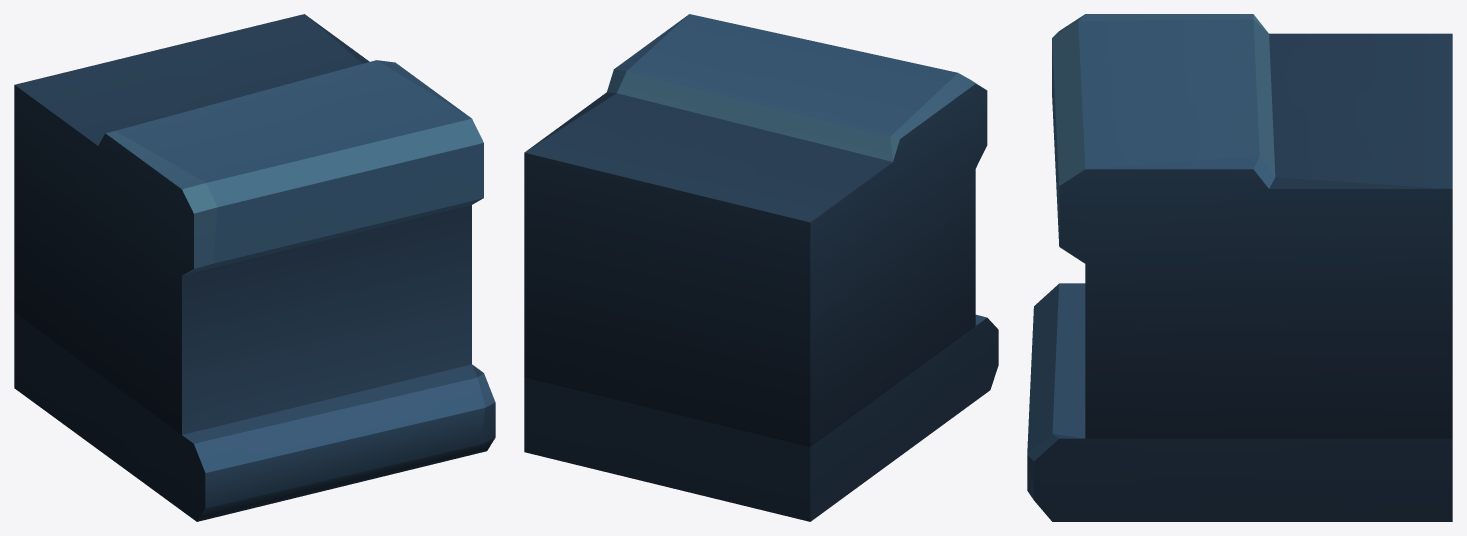
The model's file is wall_small_2.fbx.
3 renders of one model, left to right at view 1: azimuth 30°, elevation 25°; view 2: azimuth 150°, elevation 25°; view 3: azimuth 270°, elevation 25°, orthographic. The views are drawn at different scales.
Parts seen in each view (by area): view 1: wall_small_2; view 2: wall_small_2; view 3: wall_small_2.
Part boxes in pixels (x1,y1,x2,y2): wall_small_2: (14, 14, 495, 521); wall_small_2: (524, 14, 998, 521); wall_small_2: (1027, 14, 1452, 521).
Bounding box in the file's own units: 100 × 107 × 116.
